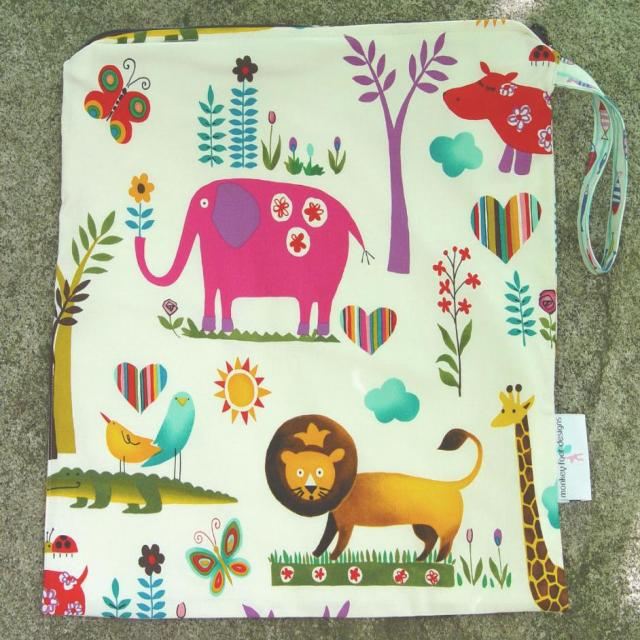elephant: (132, 157, 373, 340)
